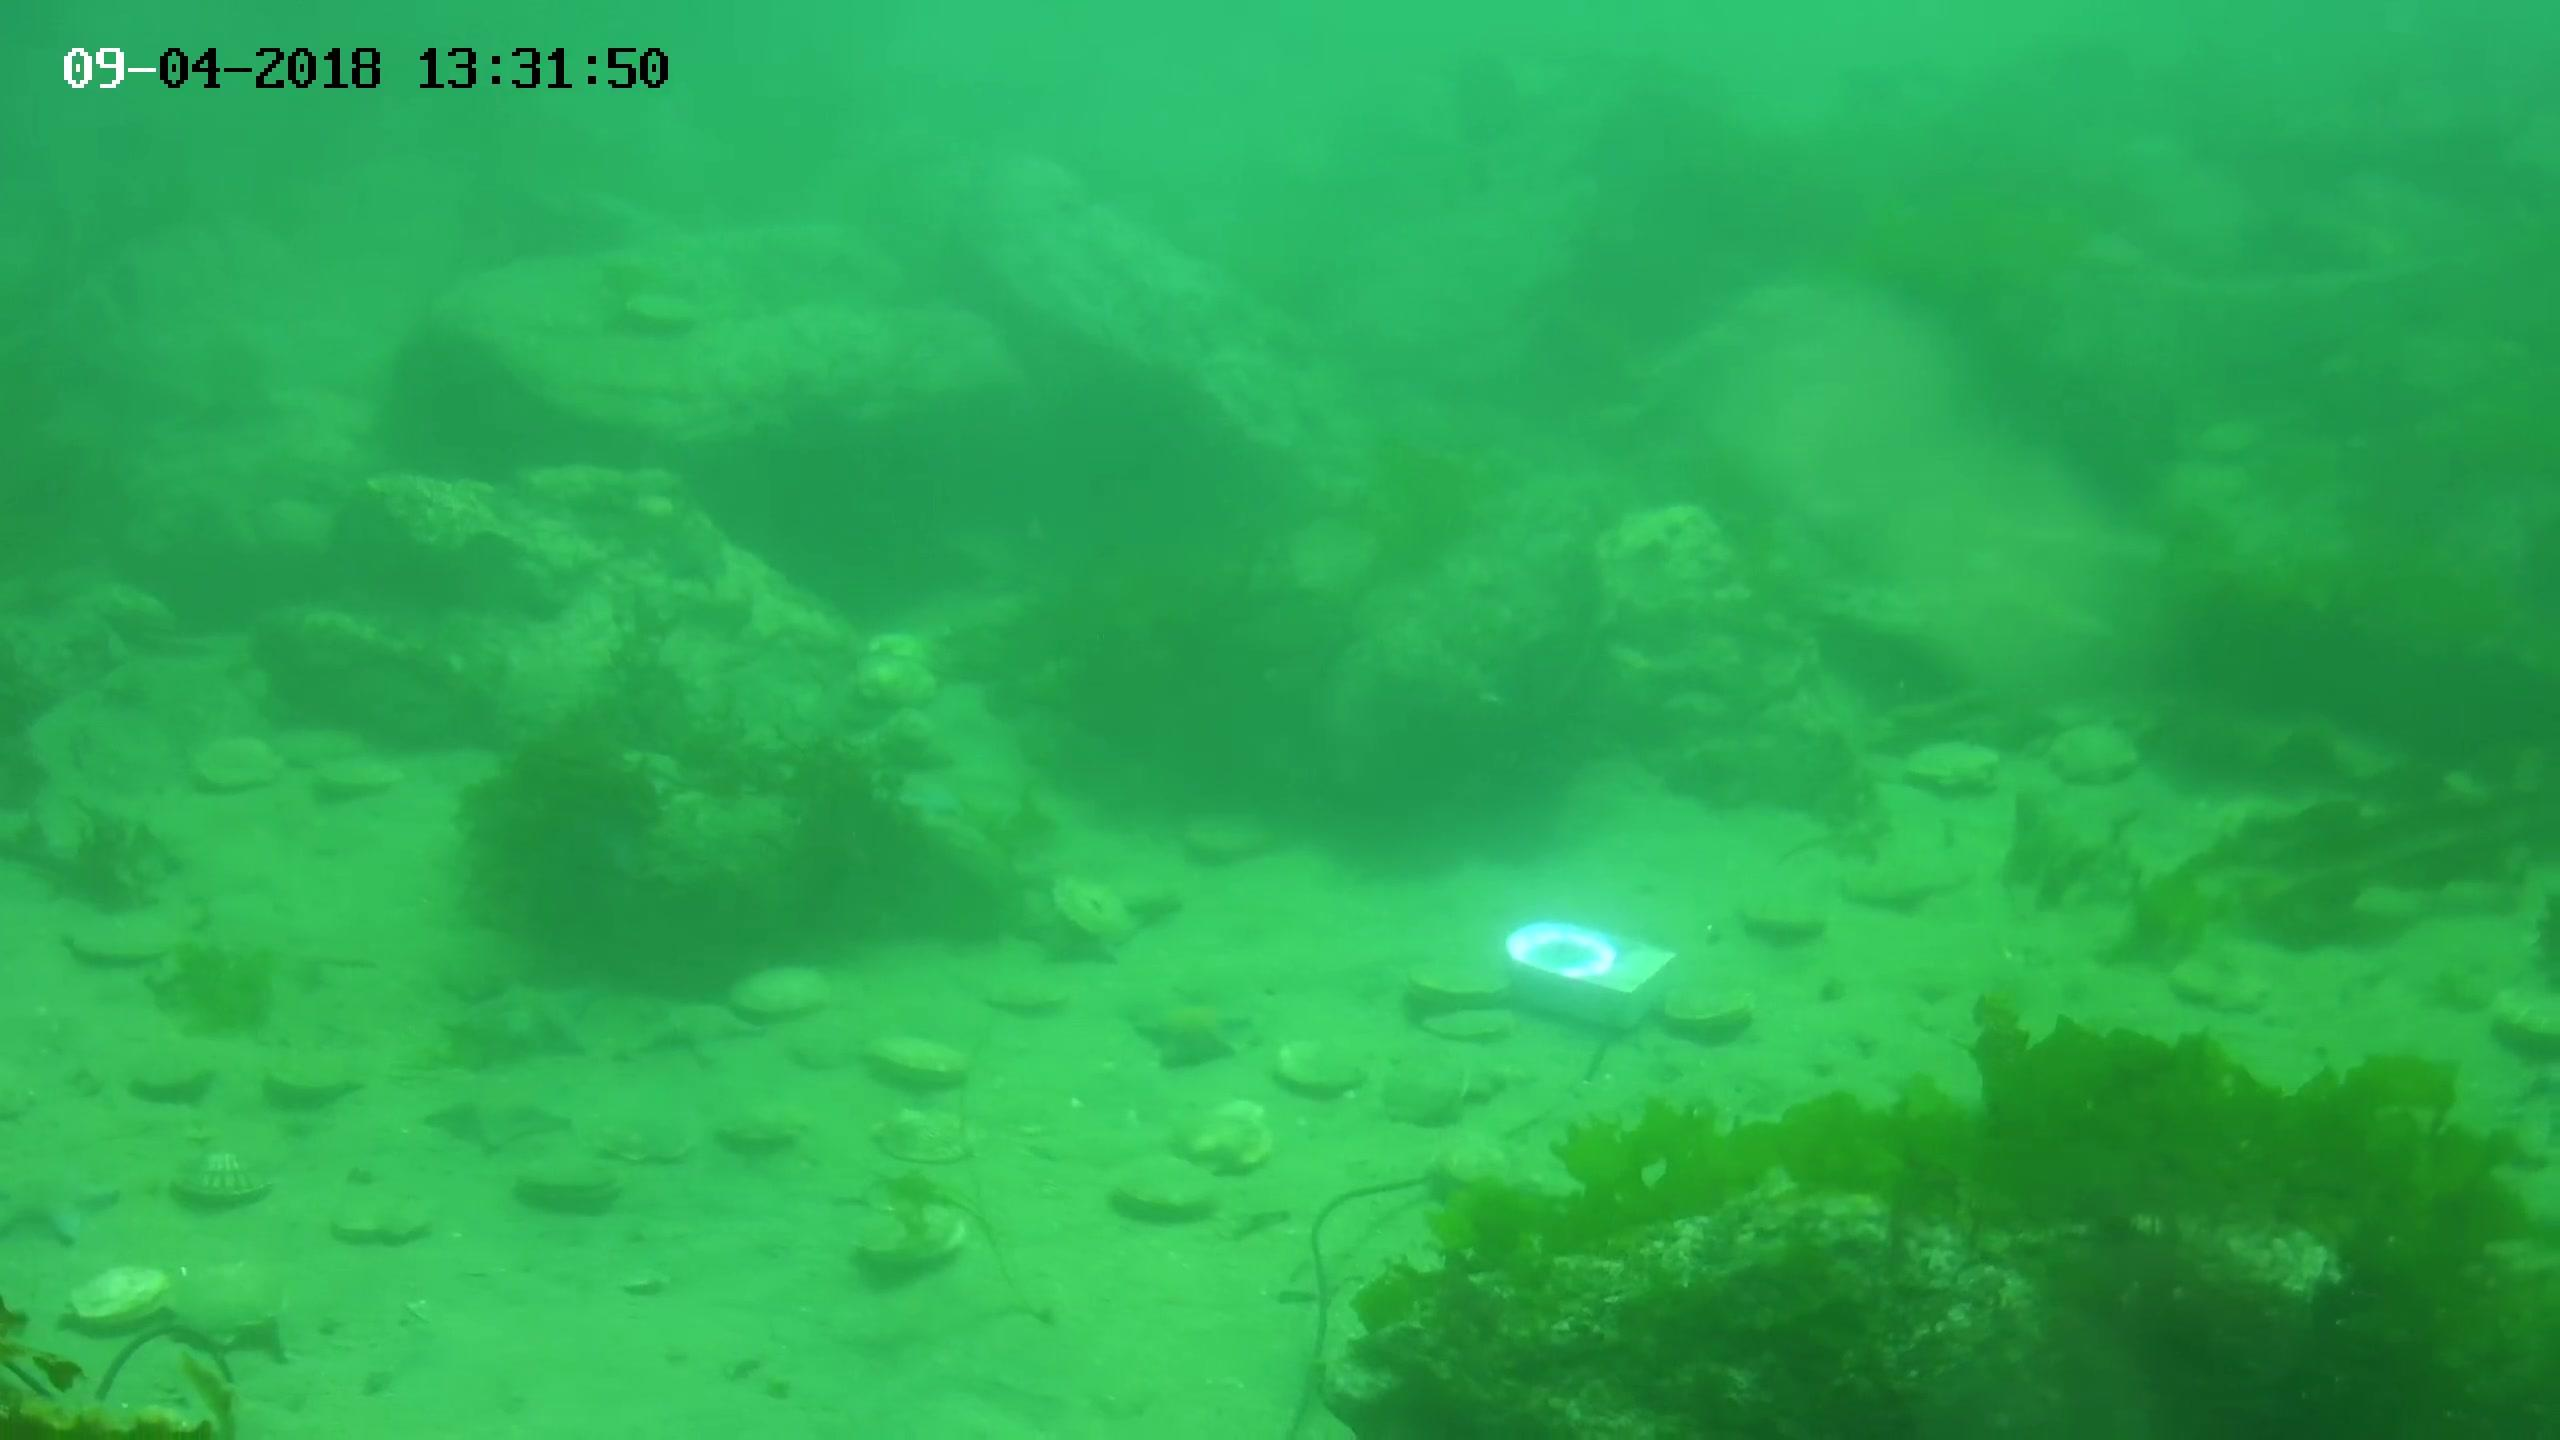scallop: (162, 1255, 297, 1357), (835, 1197, 974, 1273), (58, 904, 185, 974), (865, 1102, 986, 1171), (1111, 1152, 1225, 1224), (58, 1266, 174, 1335), (512, 1148, 628, 1213), (1183, 1094, 1275, 1175), (324, 1183, 438, 1247), (171, 1145, 281, 1210), (1387, 1053, 1477, 1132), (2170, 951, 2275, 1018), (1271, 1036, 1375, 1101), (863, 1029, 976, 1087), (1043, 876, 1132, 948), (188, 731, 288, 795), (1407, 953, 1517, 1009), (730, 964, 835, 1022), (1176, 804, 1278, 863), (1902, 744, 2004, 802), (2054, 724, 2143, 789), (849, 649, 941, 710), (717, 1095, 811, 1150), (130, 1046, 225, 1097), (1662, 988, 1758, 1037), (612, 1113, 700, 1166), (264, 1057, 369, 1101), (315, 753, 410, 800), (271, 723, 375, 765), (972, 974, 1074, 1011), (619, 287, 700, 332), (862, 619, 934, 670), (1422, 1006, 1516, 1043)
starfish: (450, 971, 600, 1062), (420, 1074, 573, 1160), (1127, 988, 1261, 1078), (2, 1152, 125, 1248), (1016, 897, 1143, 974), (633, 992, 758, 1065)
